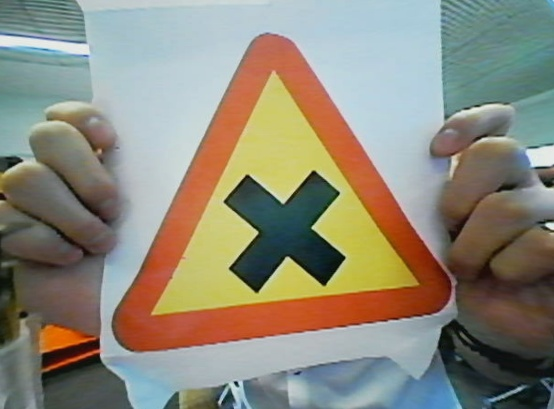junction: (125, 37, 450, 365)
